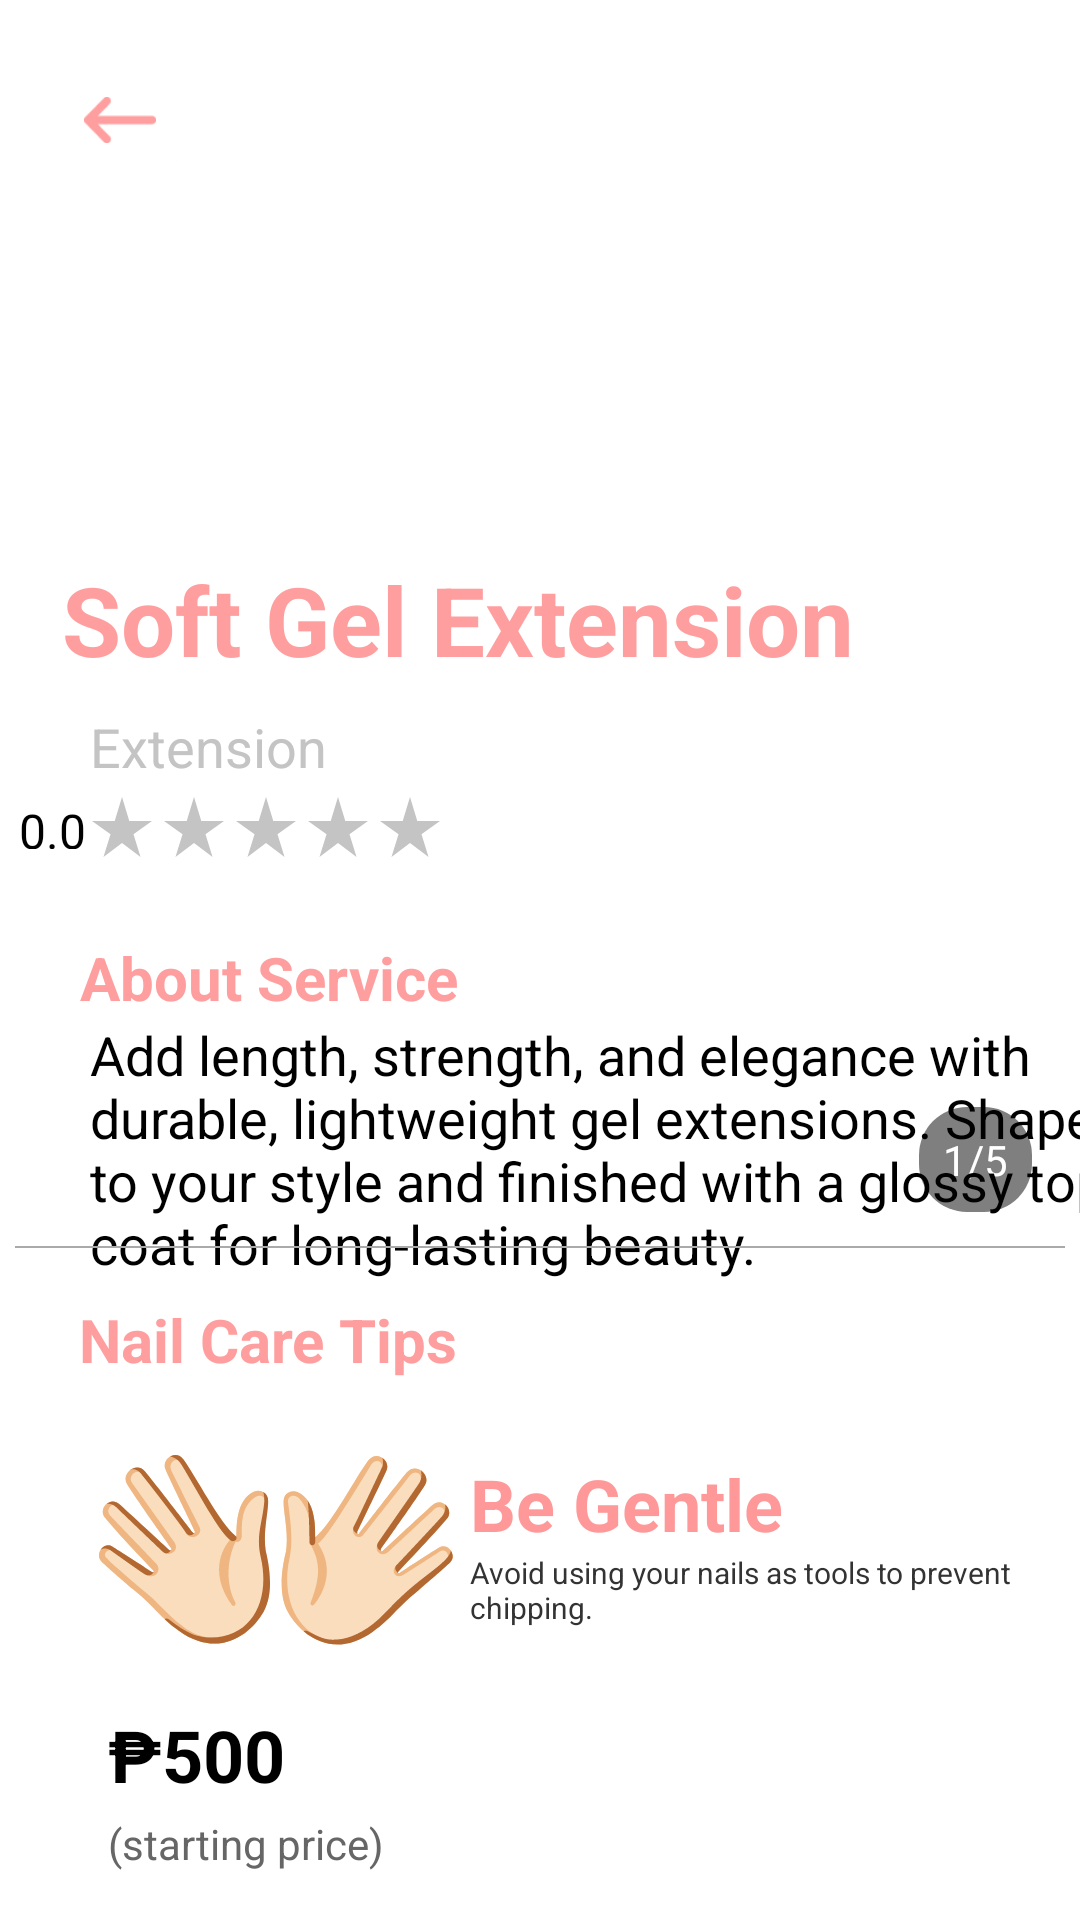

Icons on this 1080px×1920px Android screen, each with its box as (x1, y1, x2, y2):
backarrow: (84, 97, 156, 143)
starwithoutfill: (93, 798, 151, 856), (165, 798, 223, 856), (237, 798, 295, 856), (309, 798, 367, 856), (381, 798, 439, 856)
